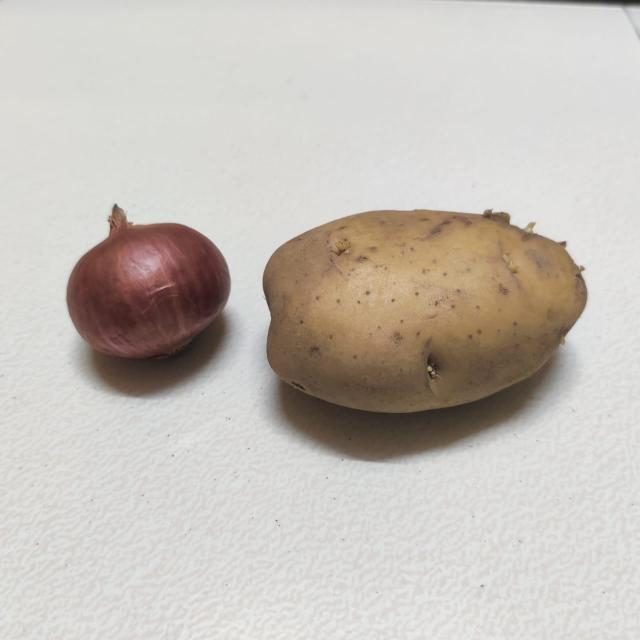Organik: (250, 202, 599, 446), (68, 183, 236, 380)
